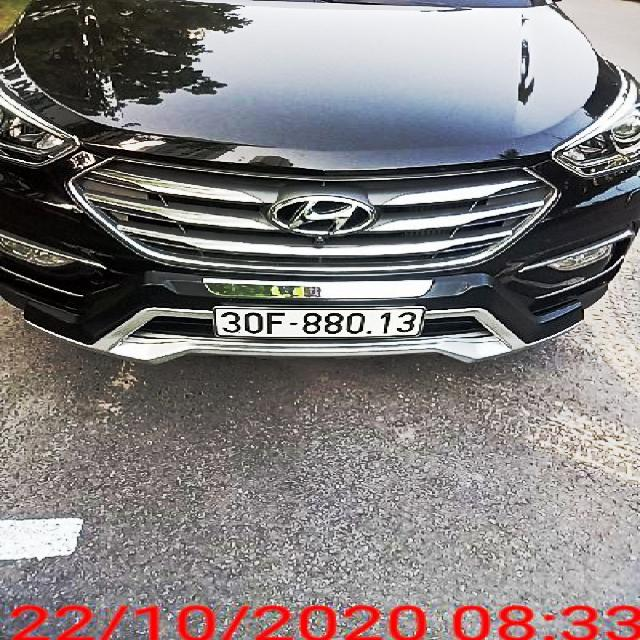license_plate: (217, 308, 426, 337)
